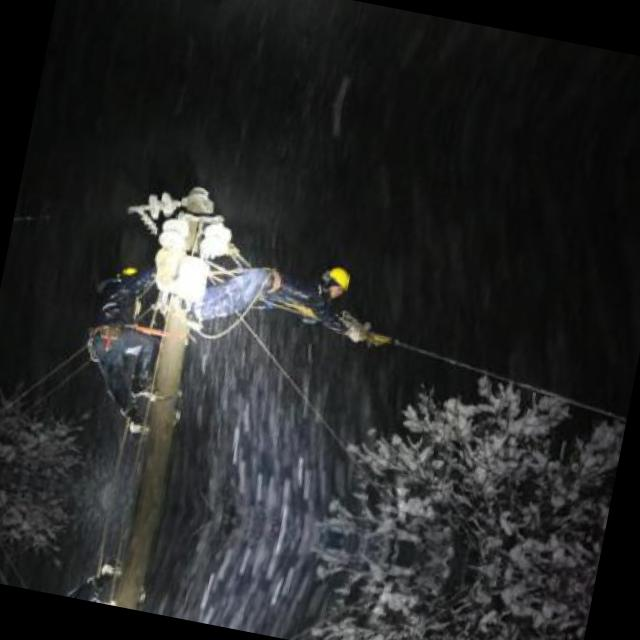helmet: (309, 260, 355, 304), (112, 260, 146, 297)
